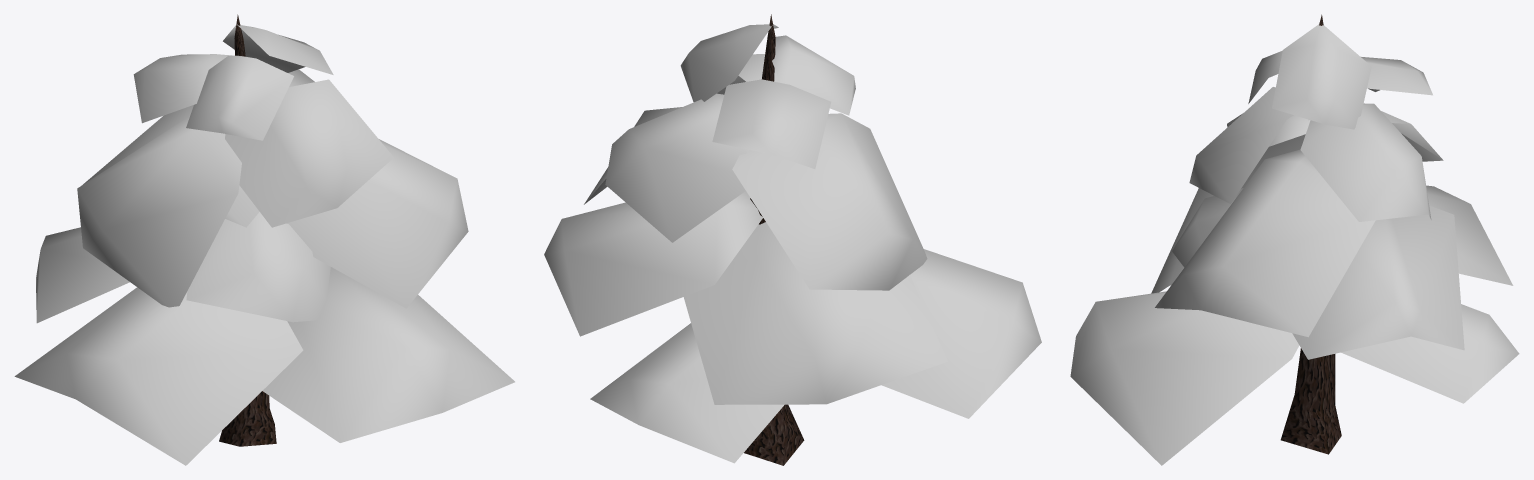
Rendered from Maple03.fbx.
3 views of the same model, side by side, from view 1: azimuth 30°, elevation 25°; view 2: azimuth 150°, elevation 25°; view 3: azimuth 270°, elevation 25° (orthographic). The views are drawn at different scales.
Parts seen in each view (by area): view 1: Maple03; view 2: Maple03; view 3: Maple03.
Part boxes in pixels (x1=…): Maple03: x1=14, y1=14, x2=514, y2=465; Maple03: x1=544, y1=14, x2=1041, y2=465; Maple03: x1=1070, y1=14, x2=1519, y2=465.
Size of the model in its own units: 894 by 893 by 856.
